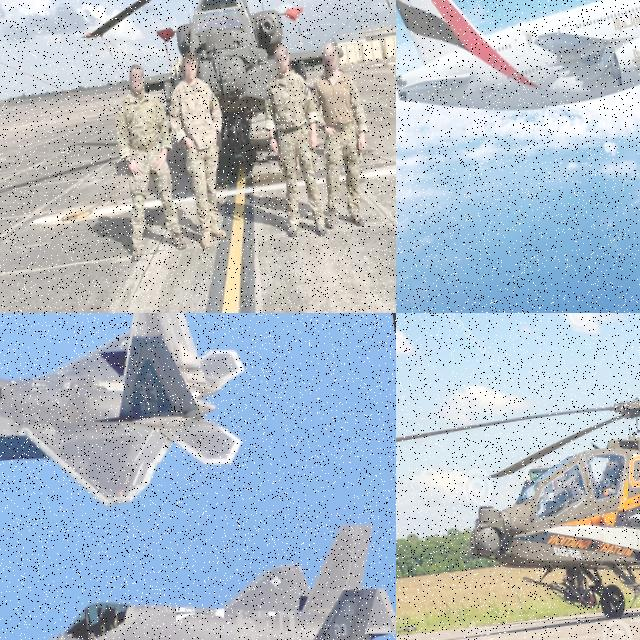A380: (396, 0, 640, 132)
Apache: (0, 0, 396, 213), (396, 330, 640, 640)
F22: (0, 313, 260, 531), (11, 514, 396, 640)
